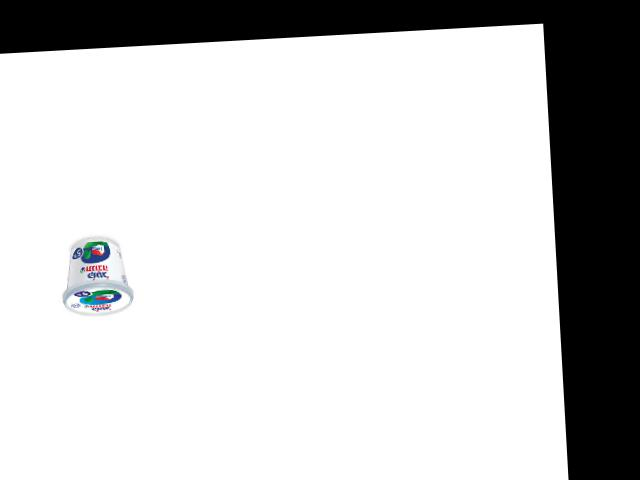cotage: (61, 233, 136, 318)
